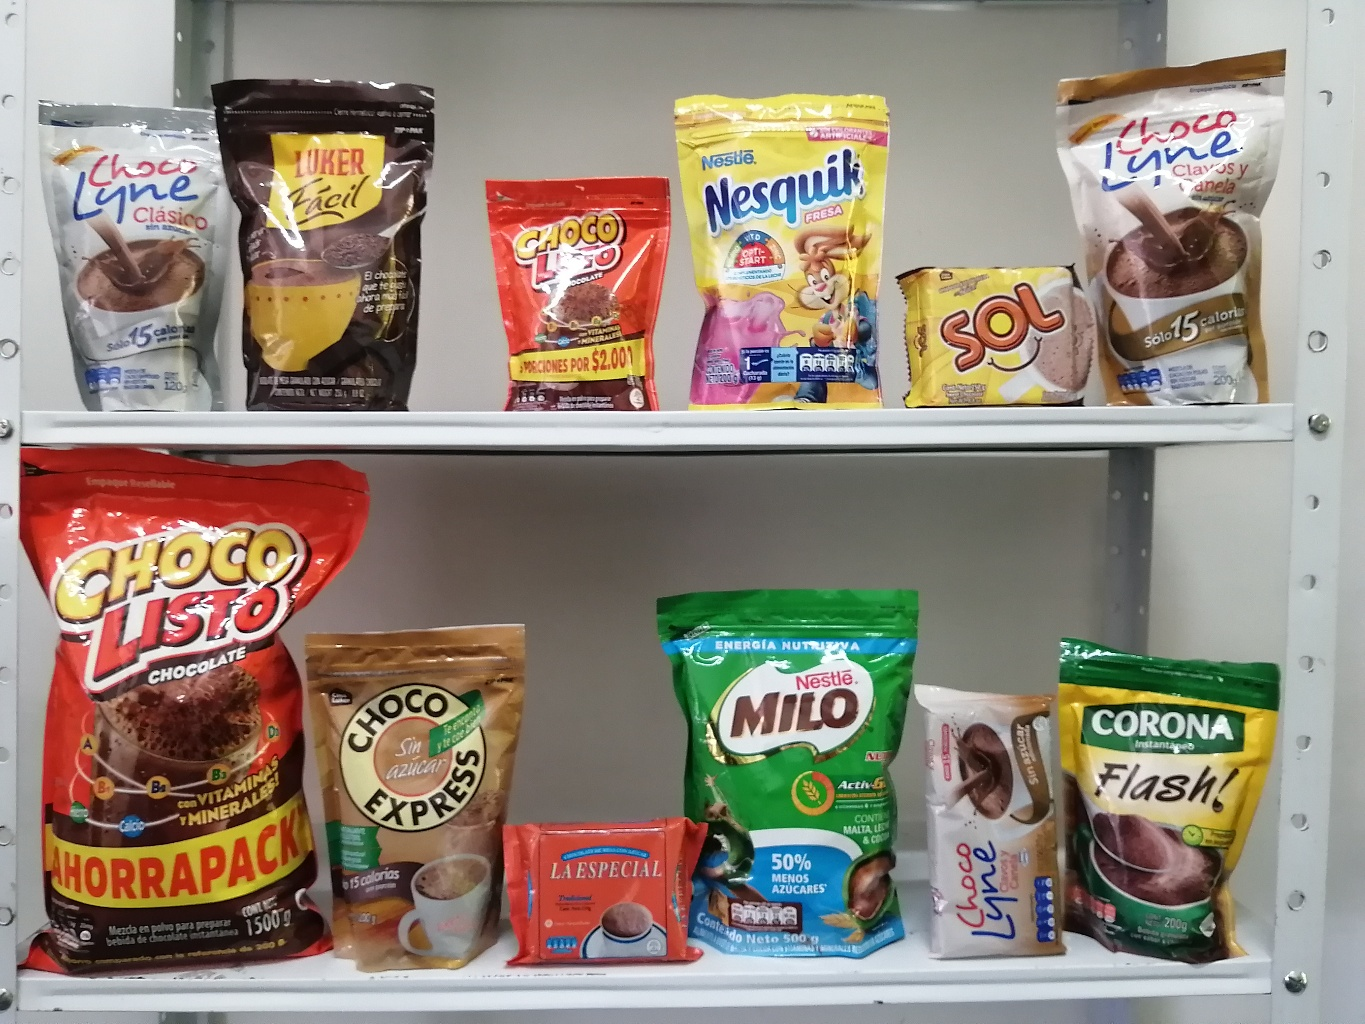COL0170103DYP1,500: (2, 430, 380, 999)
COL0170205DYP50000: (632, 571, 954, 975)
COL0170305DYP20000: (660, 71, 898, 411)
